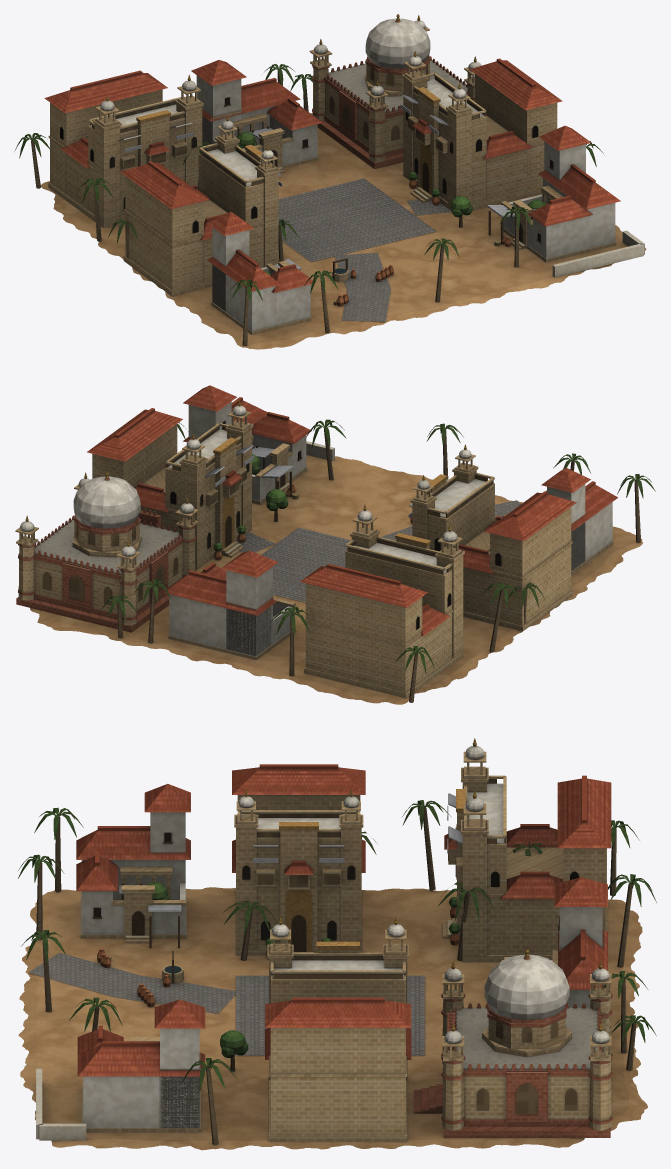
The model's file is kingdoms-town-small-b-indic.glb.
3 views of the same model, one above another, from view 1: azimuth 30°, elevation 25°; view 2: azimuth 150°, elevation 25°; view 3: azimuth 270°, elevation 25° (orthographic). The views are drawn at different scales.
Visible parts, largest first — view 1: LOD0; view 2: LOD0; view 3: LOD0.
Part boxes in pixels (x1,y1,x2,y2): LOD0: (14, 14, 646, 349); LOD0: (15, 385, 655, 704); LOD0: (18, 738, 656, 1150).
Size of what is drawn, in the model's own units: 4.2 by 1.2 by 4.09.
3 materials, 3 textured.
